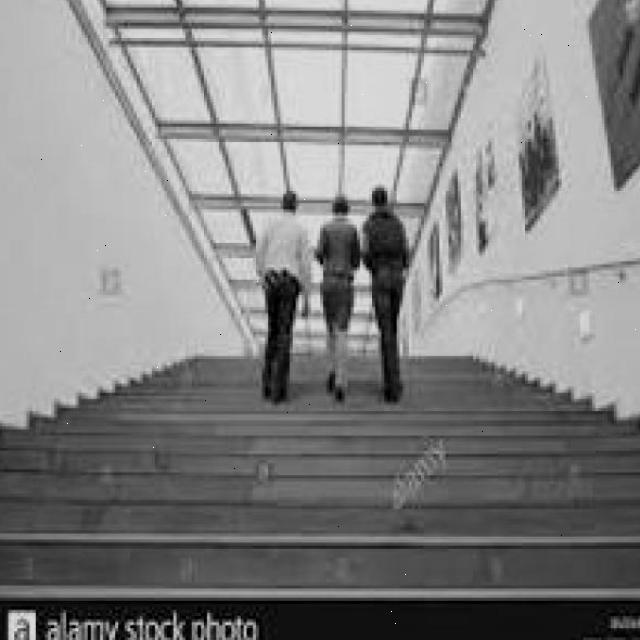stair: (33, 353, 596, 567)
